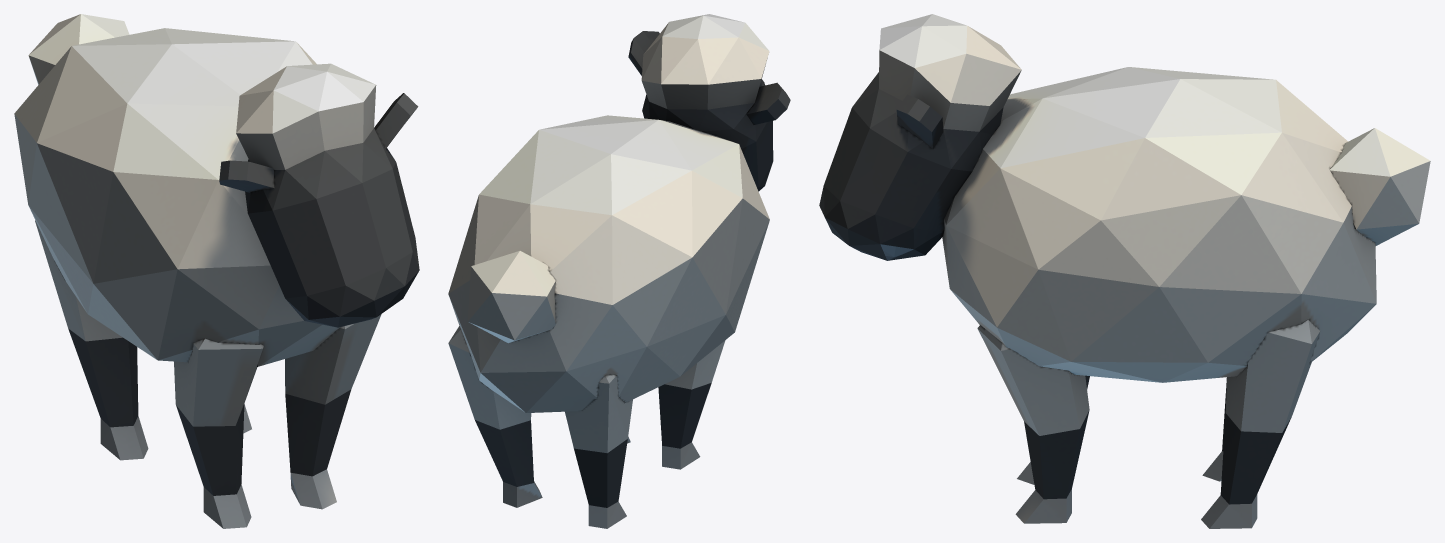
File: sheep.gltf
3 views of the same model, side by side, from view 1: azimuth 30°, elevation 25°; view 2: azimuth 150°, elevation 25°; view 3: azimuth 270°, elevation 25° (orthographic). The views are drawn at different scales.
Visible parts, largest first — view 1: Mesh_5; view 2: Mesh_5; view 3: Mesh_5.
Part boxes in pixels (left/top/right/bottom): Mesh_5: left=14, top=14, right=419, bottom=528; Mesh_5: left=448, top=14, right=790, bottom=528; Mesh_5: left=819, top=14, right=1430, bottom=528.
Size of the model in its own units: 0.9709 by 1.6 by 1.89.
1 material, 1 textured.
